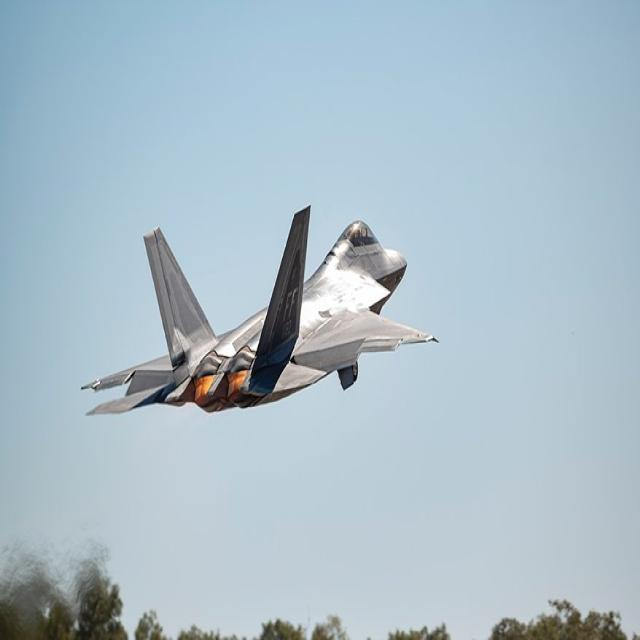F22: (71, 170, 450, 460)
